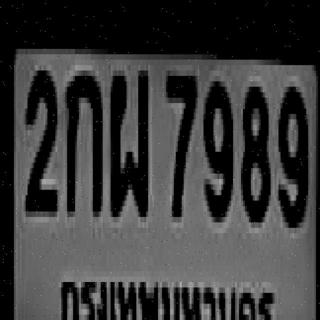A01: (65, 65, 101, 212)
A28: (109, 65, 146, 212)
N02: (24, 65, 55, 206)
N07: (163, 70, 194, 212)
N08: (239, 82, 269, 217)
N09: (276, 81, 306, 222), (201, 76, 231, 217)
